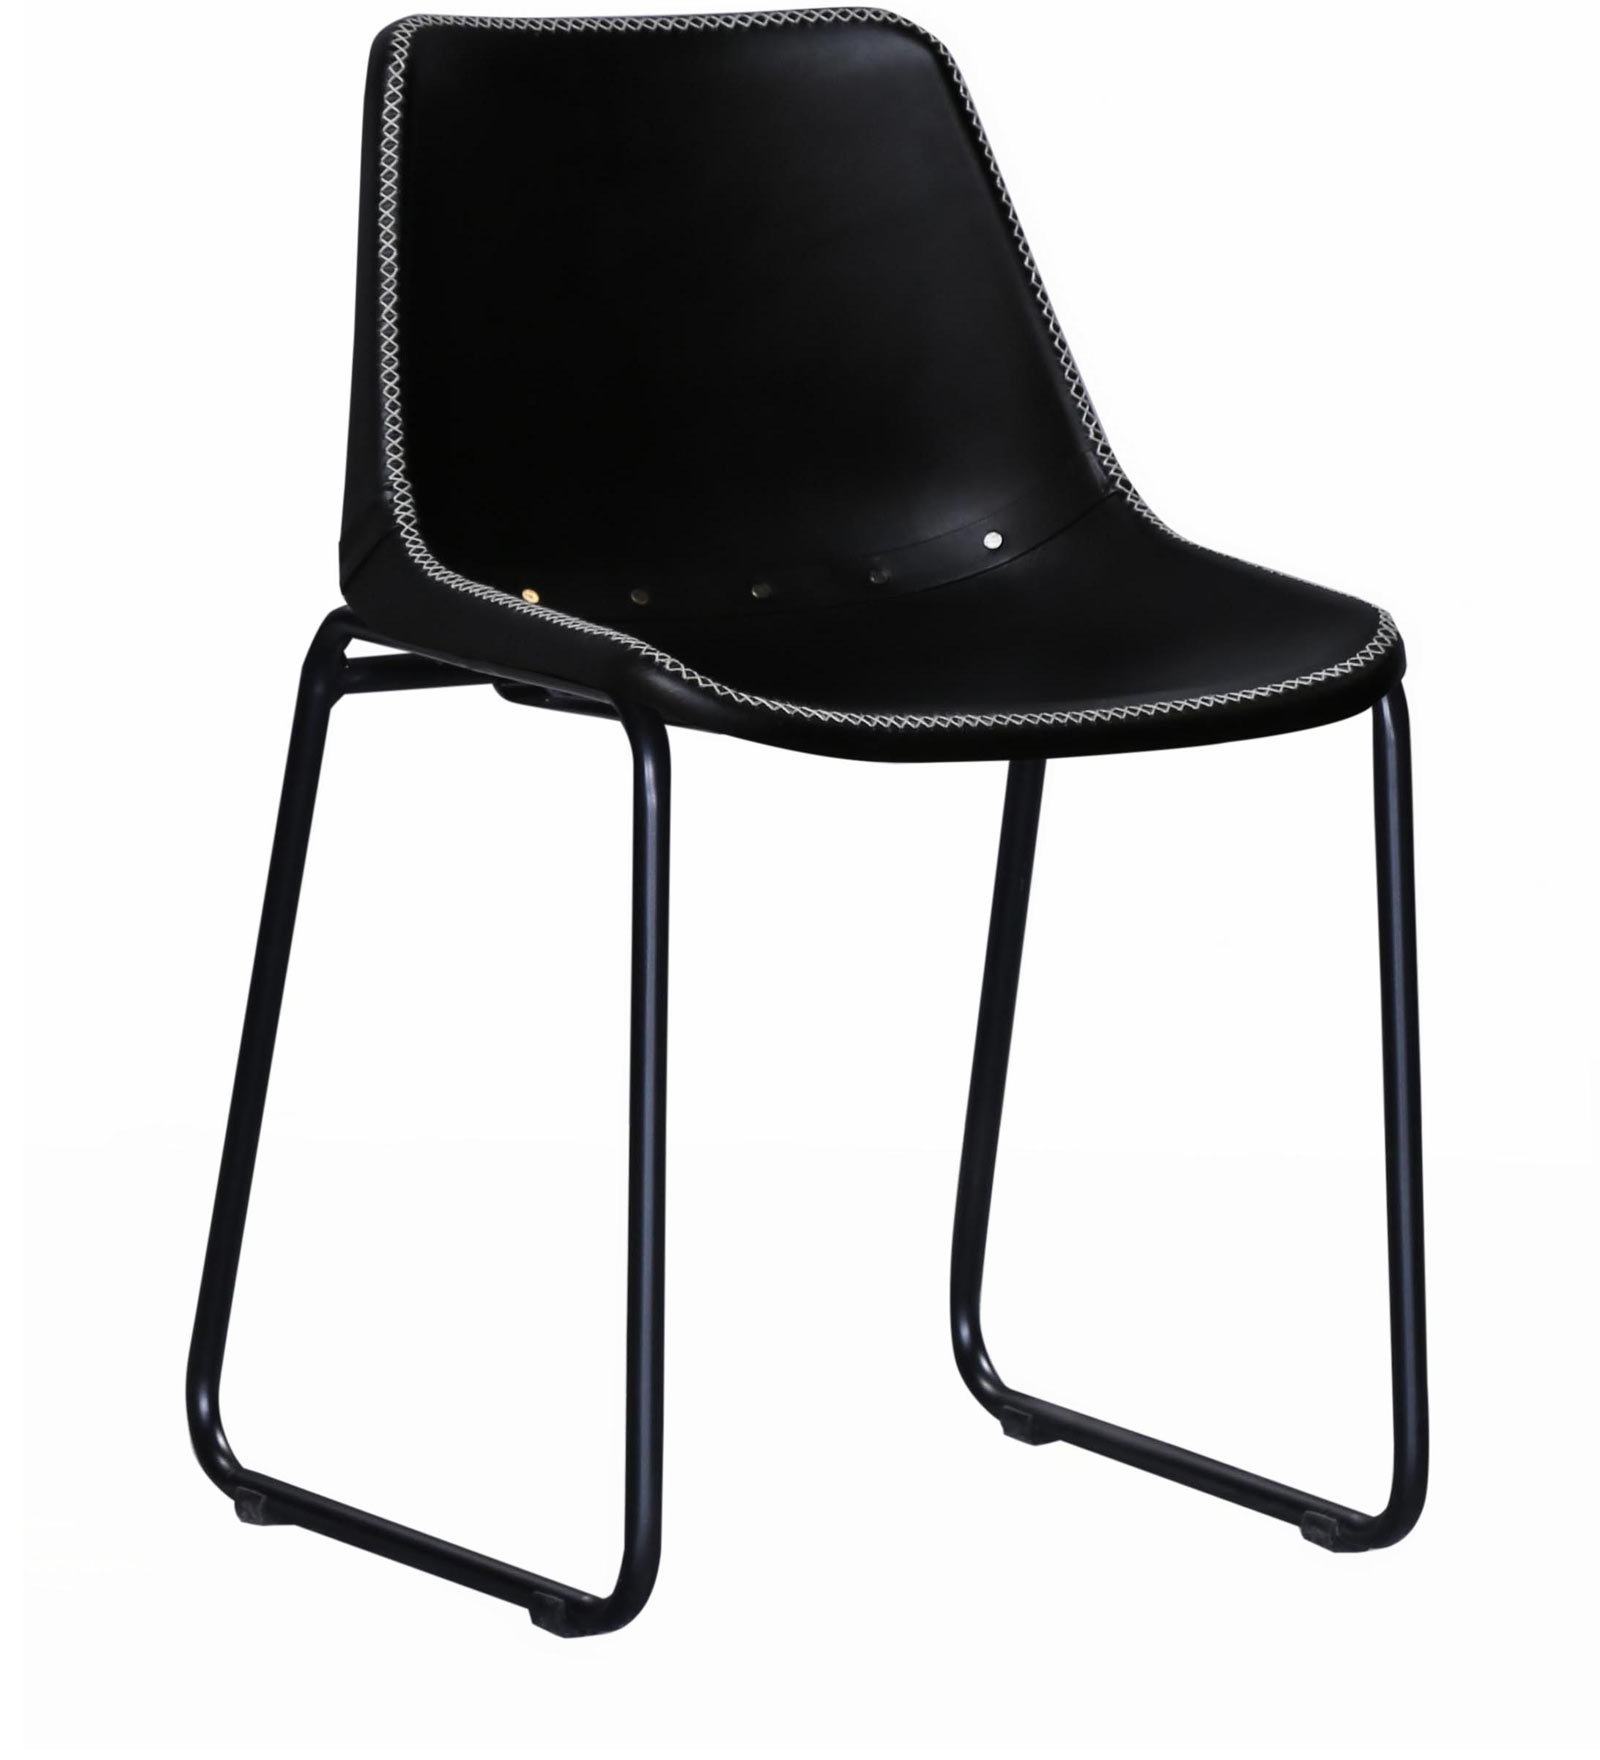Medina Black Color Leather Accent Chair by Bohemiana: (175, 5, 1477, 1633)
